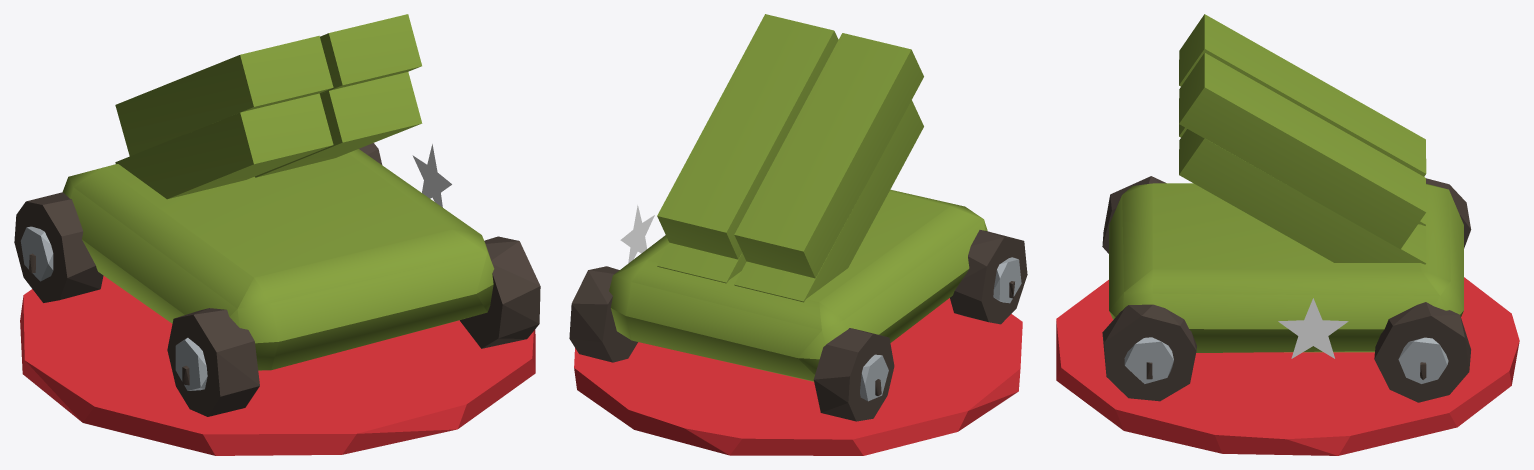
The model's file is usa_missile_lod1.glb.
3 views of the same model, side by side, from view 1: azimuth 30°, elevation 25°; view 2: azimuth 150°, elevation 25°; view 3: azimuth 270°, elevation 25° (orthographic). The views are drawn at different scales.
Visible parts, largest first — view 1: body_hull, base_pedestal; view 2: body_hull, base_pedestal; view 3: body_hull, base_pedestal.
Boxes of the visible parts, x1,y1,x2,y2 form: body_hull: (14,14,540,416); base_pedestal: (20,275,535,455); body_hull: (569,14,1027,421); base_pedestal: (574,298,1022,455); body_hull: (1102,14,1471,402); base_pedestal: (1056,277,1519,455).
Bounding box in the file's own units: 0.7751 × 0.5688 × 0.7751.
